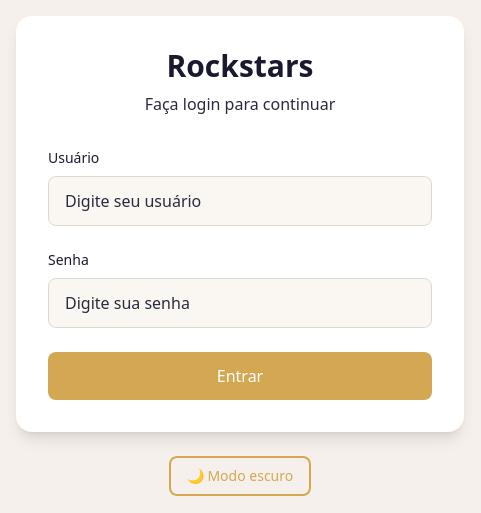
Test: Login › deve mostrar estado de loading durante submit
The width and height of the screenshot is (481, 513).
In the field labelled "Usuário": (240, 201) [48,176,432,226], type "rockstar"
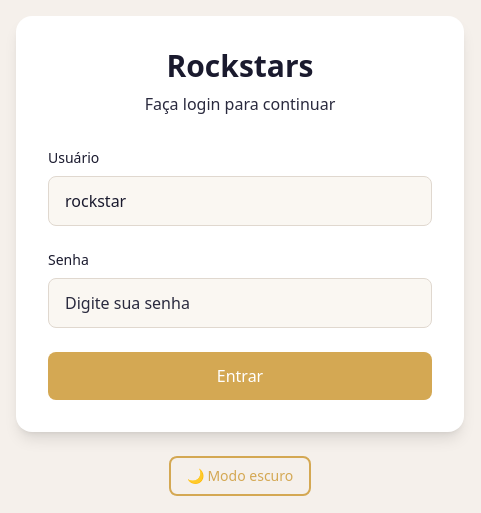
In the password field labelled "Senha": (240, 303) [48,278,432,328], type "senha123"
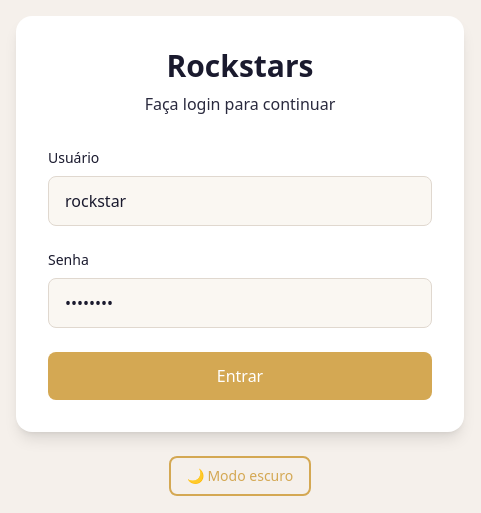
Click the button "Entrar": (240, 376) [48,352,432,400]
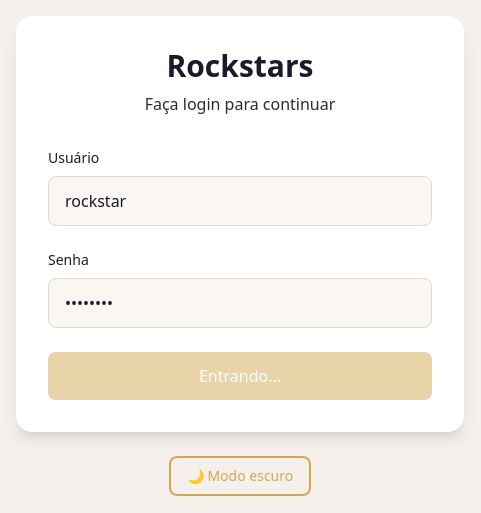
Result: the button "Entrando..." is shown at [48,352,432,400]
